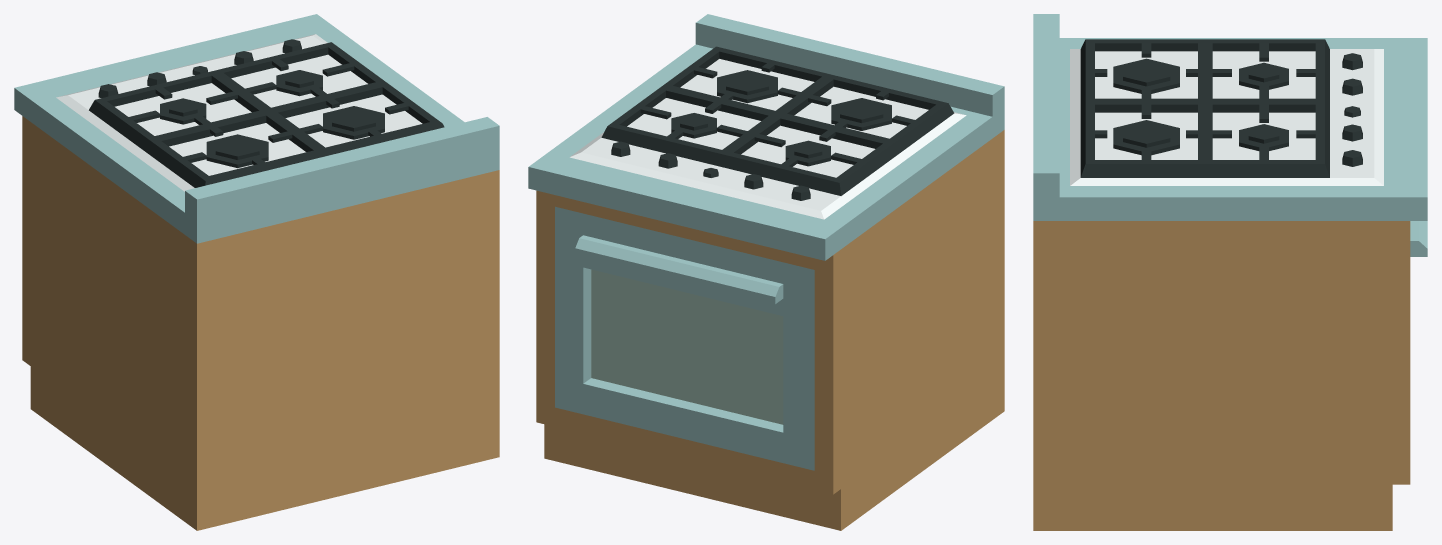
Rendered from kitchenStove.glb.
3 renders of one model, left to right at view 1: azimuth 30°, elevation 25°; view 2: azimuth 150°, elevation 25°; view 3: azimuth 270°, elevation 25°, orthographic. The views are drawn at different scales.
Bounding box in the file's own units: 4.3 × 4.5 × 4.5.
